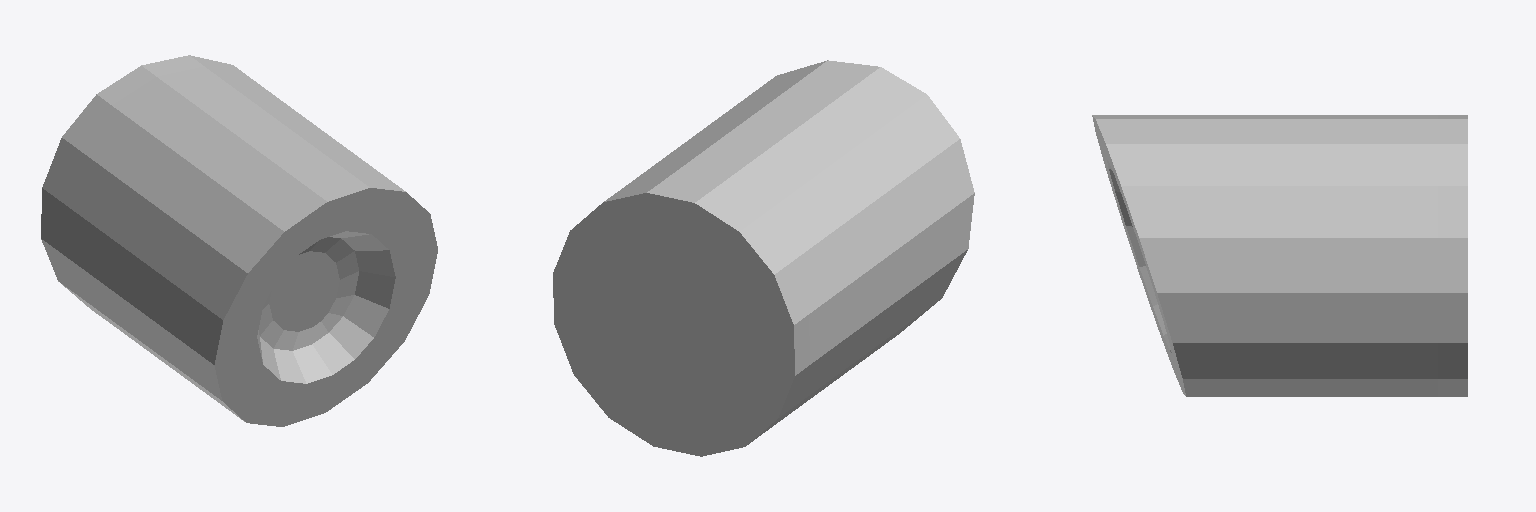
Rendered from Candle1.obj.
The picture shows the model from 3 angles: view 1: azimuth 30°, elevation 25°; view 2: azimuth 150°, elevation 25°; view 3: azimuth 270°, elevation 25°; orthographic projection.
Visible parts, largest first — view 1: Candle1_Cylinder.004; view 2: Candle1_Cylinder.004; view 3: Candle1_Cylinder.004.
Part boxes in pixels (bbox=[...]): Candle1_Cylinder.004: bbox=[41, 55, 437, 426]; Candle1_Cylinder.004: bbox=[553, 60, 974, 456]; Candle1_Cylinder.004: bbox=[1092, 115, 1467, 396].
Bounding box in the file's own units: 0.2817 × 0.2817 × 0.3784.